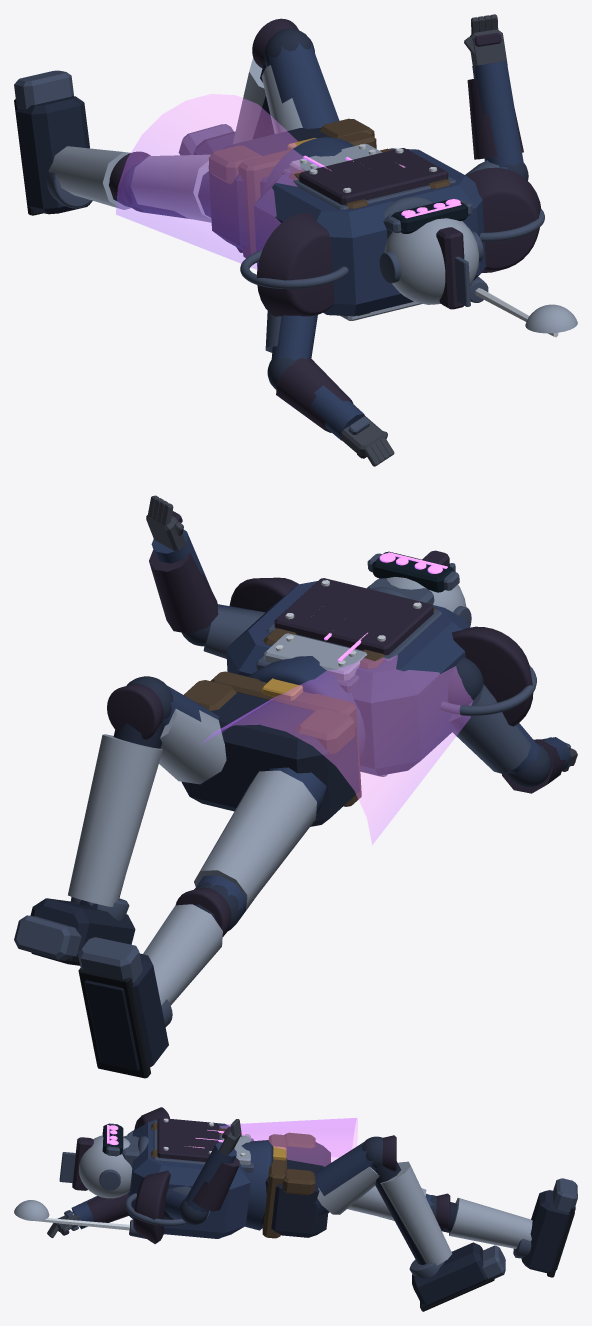
File: hero_specter_downed.glb
3 renders of one model, top to bottom at view 1: azimuth 30°, elevation 25°; view 2: azimuth 150°, elevation 25°; view 3: azimuth 270°, elevation 25°, orthographic. The views are drawn at different scales.
Visible parts, largest first — view 1: hero_specter_downed_cloak, hero_specter_downed_chest, hero_specter_downed_pauldron-1, hero_specter_downed_boot_l, hero_specter_downed_chest_plate_face, hero_specter_downed_pauldron1, hero_specter_downed_helmet, hero_specter_downed_thigh_plate_l, hero_specter_downed_pelvis, hero_specter_downed_thigh_r, hero_specter_downed_forearm_r, hero_specter_downed_greave_l (+27 smaller); view 2: hero_specter_downed_cloak, hero_specter_downed_chest, hero_specter_downed_pelvis, hero_specter_downed_greave_r, hero_specter_downed_thigh_plate_l, hero_specter_downed_chest_plate_face, hero_specter_downed_boot_l, hero_specter_downed_greave_l, hero_specter_downed_pauldron-1, hero_specter_downed_thigh_plate_r, hero_specter_downed_bracer_r, hero_specter_downed_bicep_plate_l (+23 smaller); view 3: hero_specter_downed_chest, hero_specter_downed_cloak, hero_specter_downed_pelvis, hero_specter_downed_greave_r, hero_specter_downed_greave_l, hero_specter_downed_boot_r, hero_specter_downed_boot_l, hero_specter_downed_chest_plate_face, hero_specter_downed_helmet, hero_specter_downed_pauldron1, hero_specter_downed_abdomen, hero_specter_downed_thigh_r (+32 smaller).
Boxes of the visible parts, <box> form: hero_specter_downed_cloak: <box>116,94,303,269</box>; hero_specter_downed_chest: <box>254,148,485,316</box>; hero_specter_downed_pauldron-1: <box>257,213,334,316</box>; hero_specter_downed_boot_l: <box>15,96,92,214</box>; hero_specter_downed_chest_plate_face: <box>299,148,448,204</box>; hero_specter_downed_pauldron1: <box>466,167,541,273</box>; hero_specter_downed_helmet: <box>384,218,479,304</box>; hero_specter_downed_thigh_plate_l: <box>130,154,211,222</box>; hero_specter_downed_pelvis: <box>208,128,330,250</box>; hero_specter_downed_thigh_r: <box>265,42,339,128</box>; hero_specter_downed_forearm_r: <box>472,61,523,166</box>; hero_specter_downed_greave_l: <box>48,146,130,209</box>; hero_specter_downed_cloak: <box>200,655,472,844</box>; hero_specter_downed_chest: <box>226,581,468,775</box>; hero_specter_downed_pelvis: <box>181,692,359,826</box>; hero_specter_downed_greave_r: <box>68,734,162,906</box>; hero_specter_downed_thigh_plate_l: <box>194,770,316,909</box>; hero_specter_downed_chest_plate_face: <box>274,578,433,655</box>; hero_specter_downed_boot_l: <box>84,953,168,1070</box>; hero_specter_downed_greave_l: <box>143,904,222,1005</box>; hero_specter_downed_pauldron-1: <box>452,626,533,726</box>; hero_specter_downed_thigh_plate_r: <box>159,709,226,784</box>; hero_specter_downed_bracer_r: <box>149,550,218,633</box>; hero_specter_downed_bicep_plate_l: <box>448,684,530,773</box>; hero_specter_downed_chest: <box>128,1119,250,1238</box>; hero_specter_downed_cloak: <box>219,1118,357,1166</box>; hero_specter_downed_pelvis: <box>261,1142,330,1237</box>; hero_specter_downed_greave_r: <box>380,1161,452,1265</box>; hero_specter_downed_greave_l: <box>449,1198,532,1248</box>; hero_specter_downed_boot_r: <box>412,1242,486,1306</box>; hero_specter_downed_boot_l: <box>521,1190,574,1272</box>; hero_specter_downed_chest_plate_face: <box>157,1118,219,1161</box>; hero_specter_downed_helmet: <box>79,1135,132,1198</box>; hero_specter_downed_pauldron1: <box>133,1170,170,1243</box>; hero_specter_downed_abdomen: <box>241,1140,273,1230</box>; hero_specter_downed_thigh_r: <box>314,1142,376,1215</box>.
Bounding box in the file's own units: 0.8907 × 0.8845 × 2.1.
